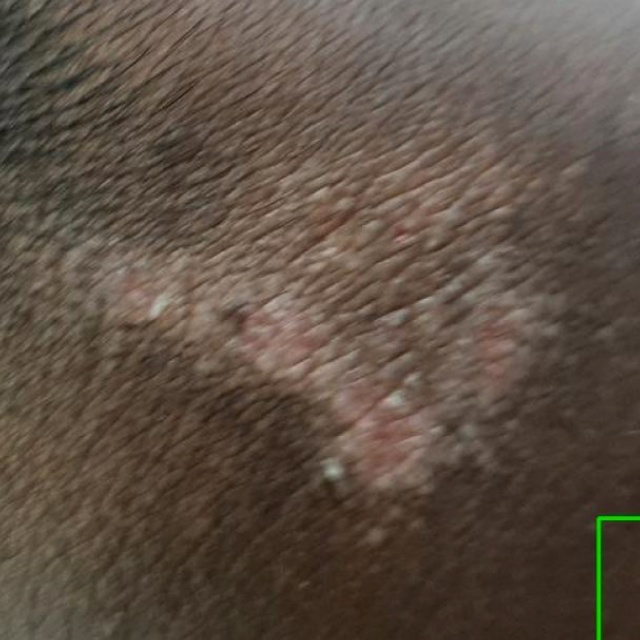Contact Dermatitis: (598, 518, 639, 639)
